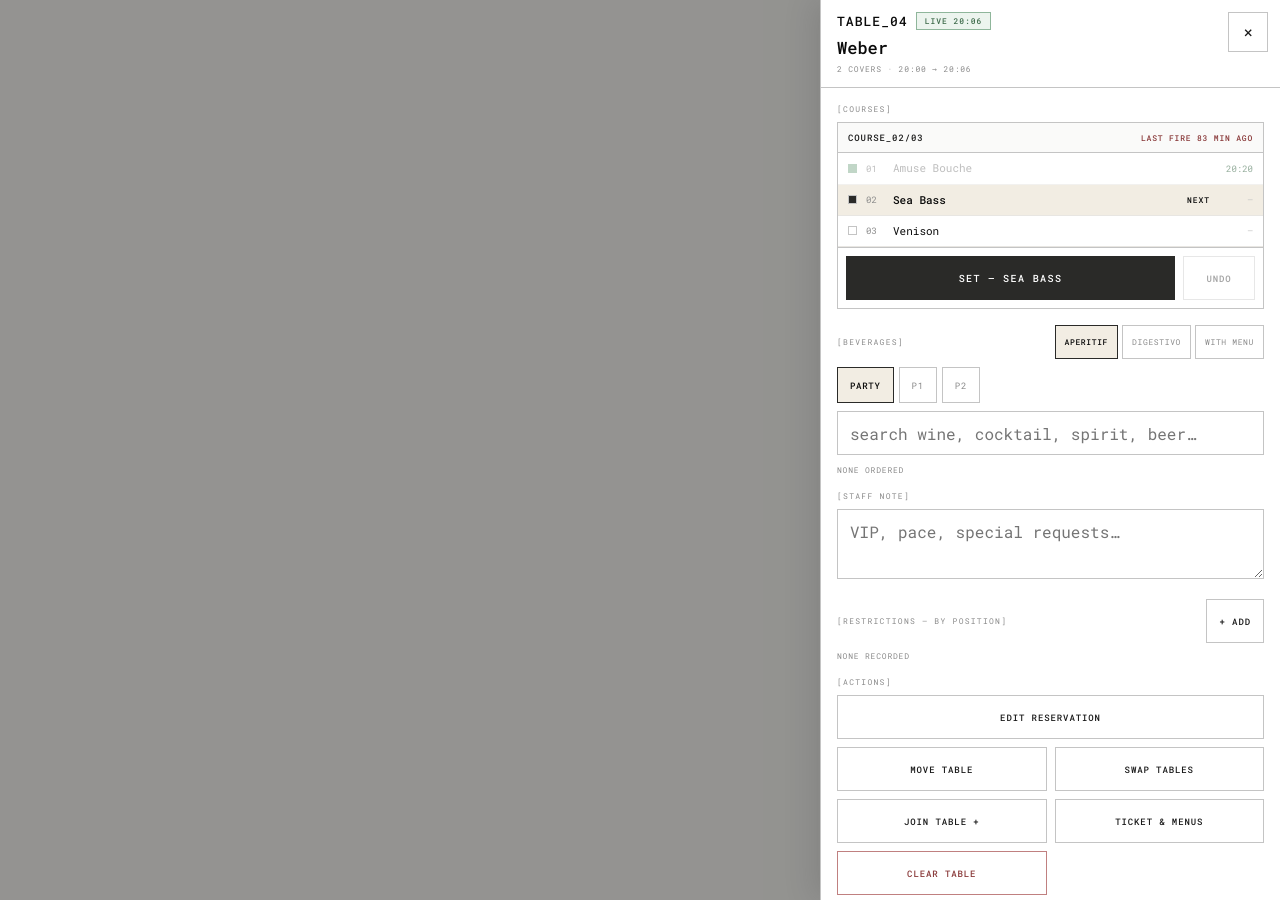
TableSheet — EDIT RESERVATION › keeps the panel open when the write is refused, edit intact
Click the button "EDIT RESERVATION".
click(1050, 717)  # box [837,695,1264,739]
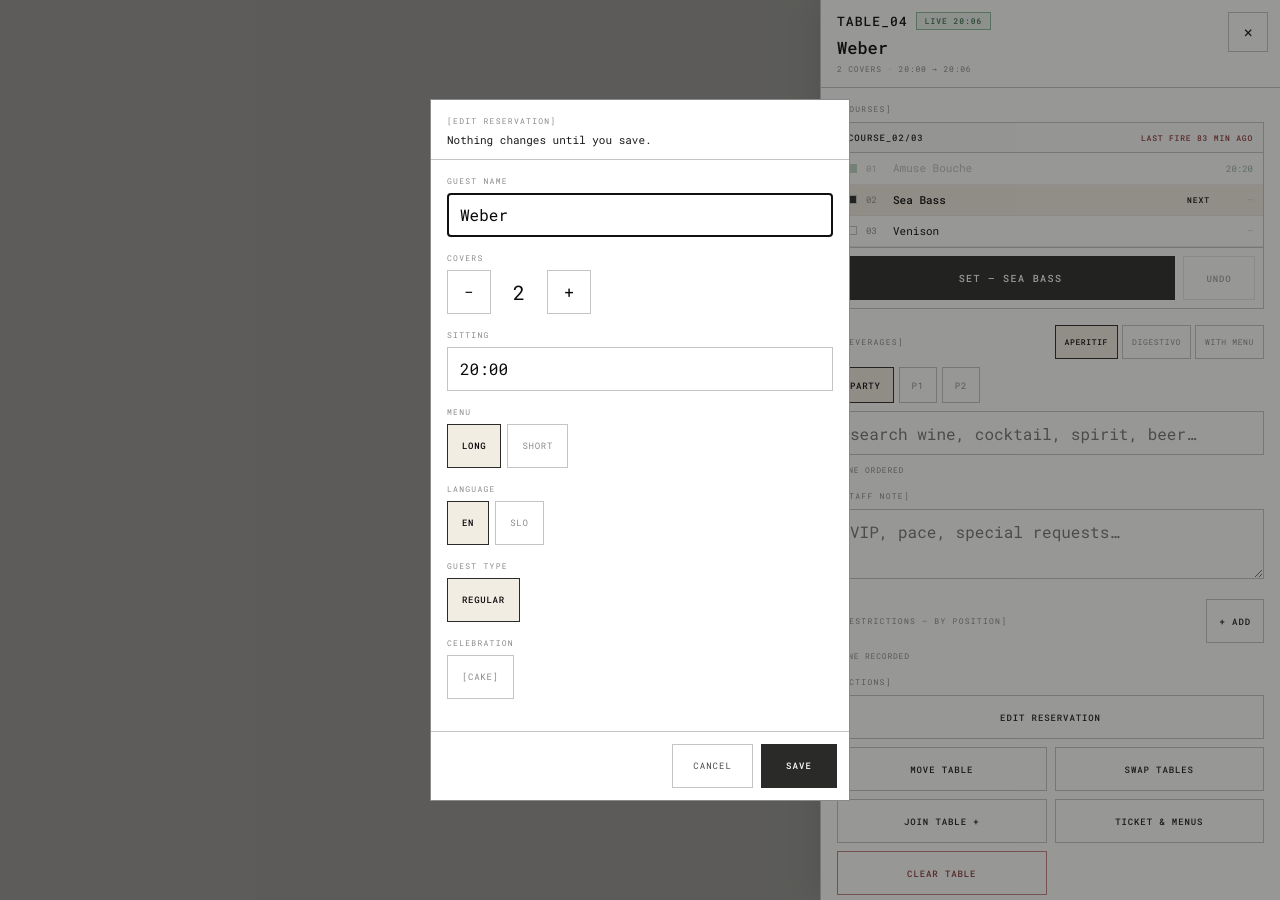
Replace the text in the field named "Guest name" with "Retry" at {"x": 640, "y": 215}, box [447,193,833,237]
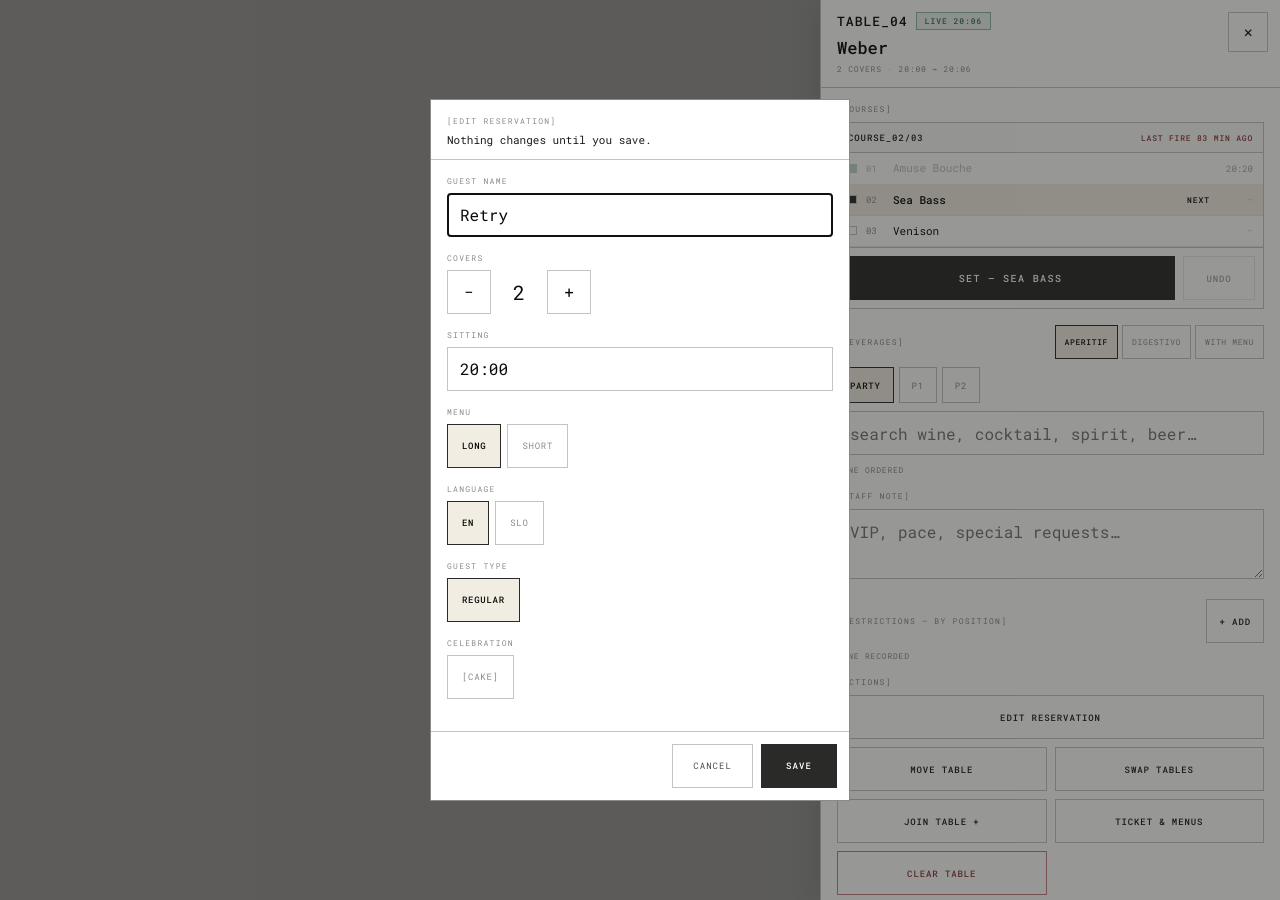
Click the button "SAVE".
click(799, 766)  # box [761,744,837,788]
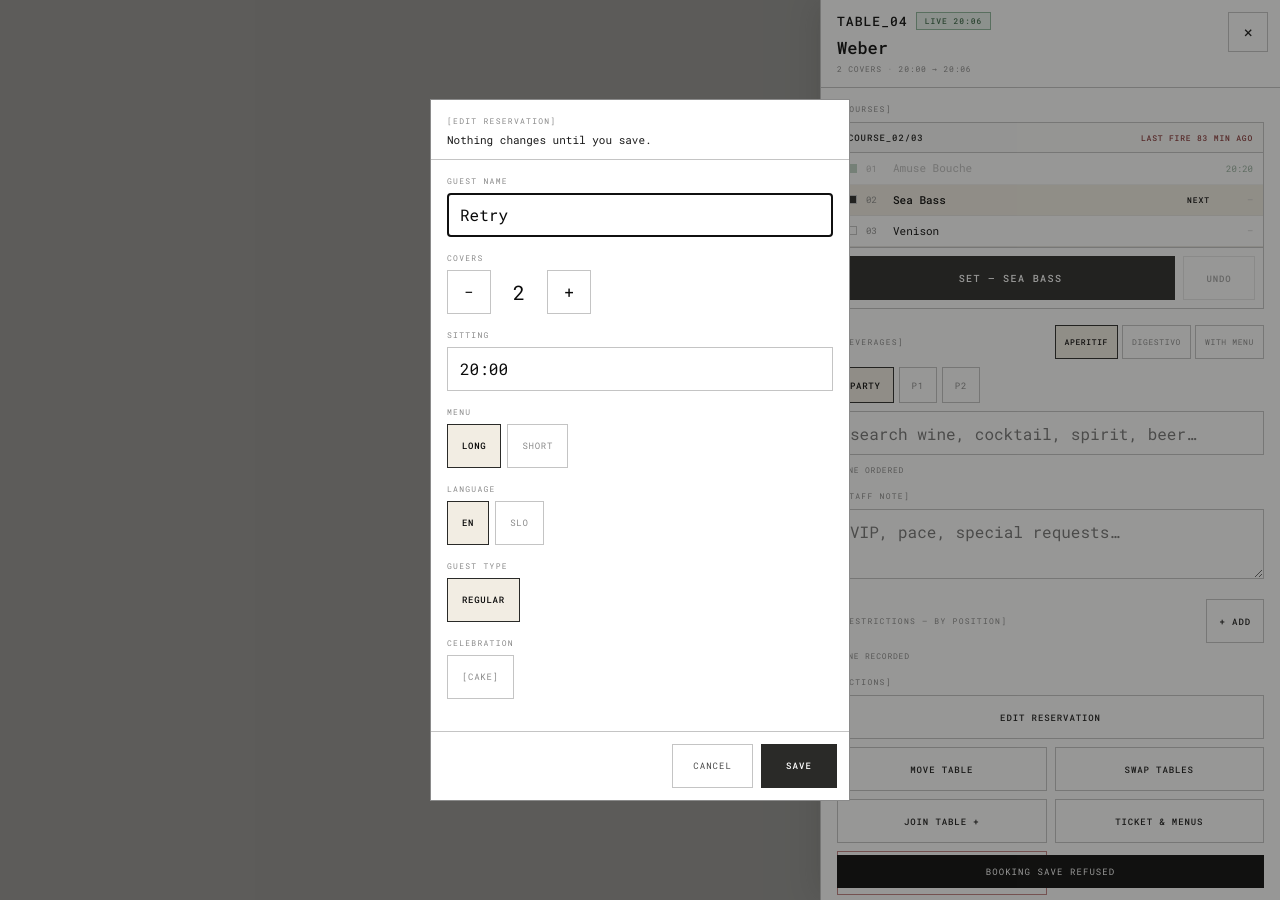
Expected: the text "BOOKING SAVE REFUSED" is shown, [837,855,1264,888]
